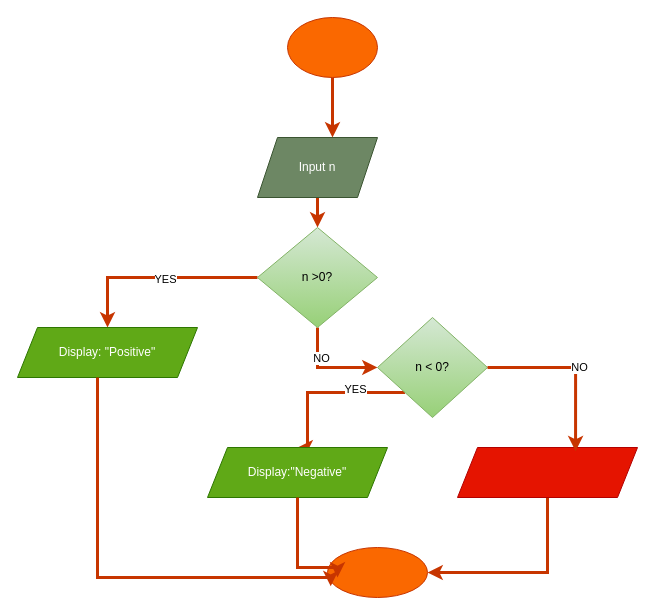
This 655x615 diagram has some shape labels left out. The centre of each missing label's shape, as x and y in pixels:
Display: "Zero": [547,472]
End: [377,572]
Start: [332,47]
